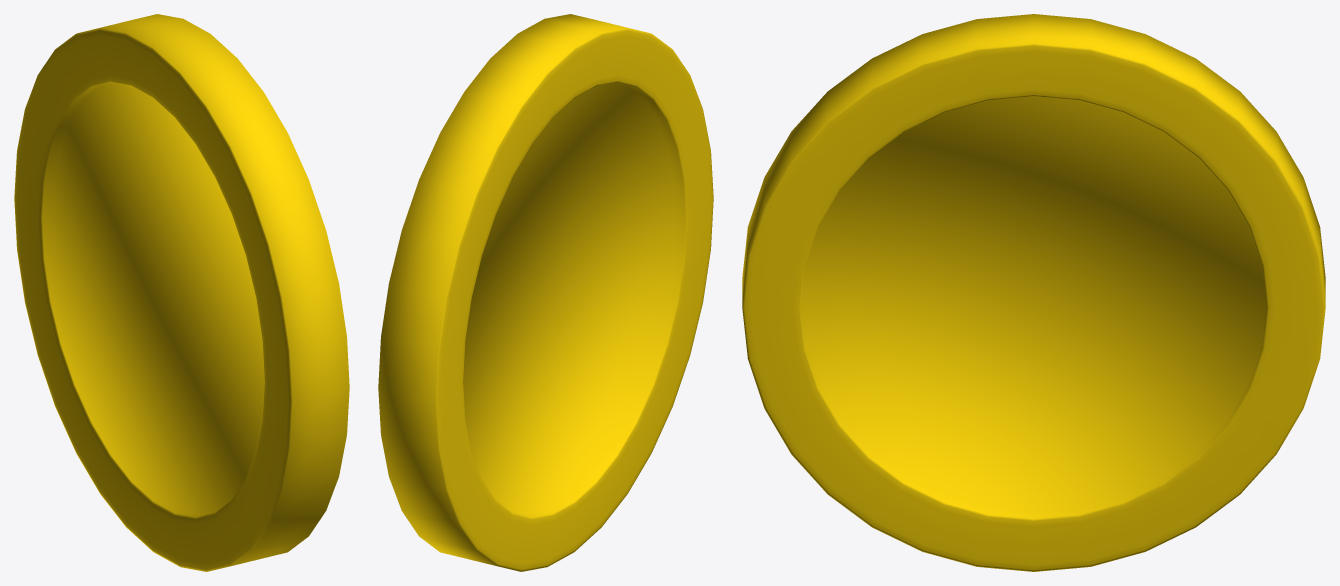
The model's file is Coin (1).fbx.
3 views of the same model, side by side, from view 1: azimuth 30°, elevation 25°; view 2: azimuth 150°, elevation 25°; view 3: azimuth 270°, elevation 25° (orthographic). The views are drawn at different scales.
Visible parts, largest first — view 1: Coin; view 2: Coin; view 3: Coin.
Boxes of the visible parts, <box> form: Coin: <box>14,14,349,571</box>; Coin: <box>378,14,713,571</box>; Coin: <box>742,14,1325,571</box>.
Size of the model in its own units: 24.39 by 200 by 200.
Materials: 1 (1 with a texture image).
